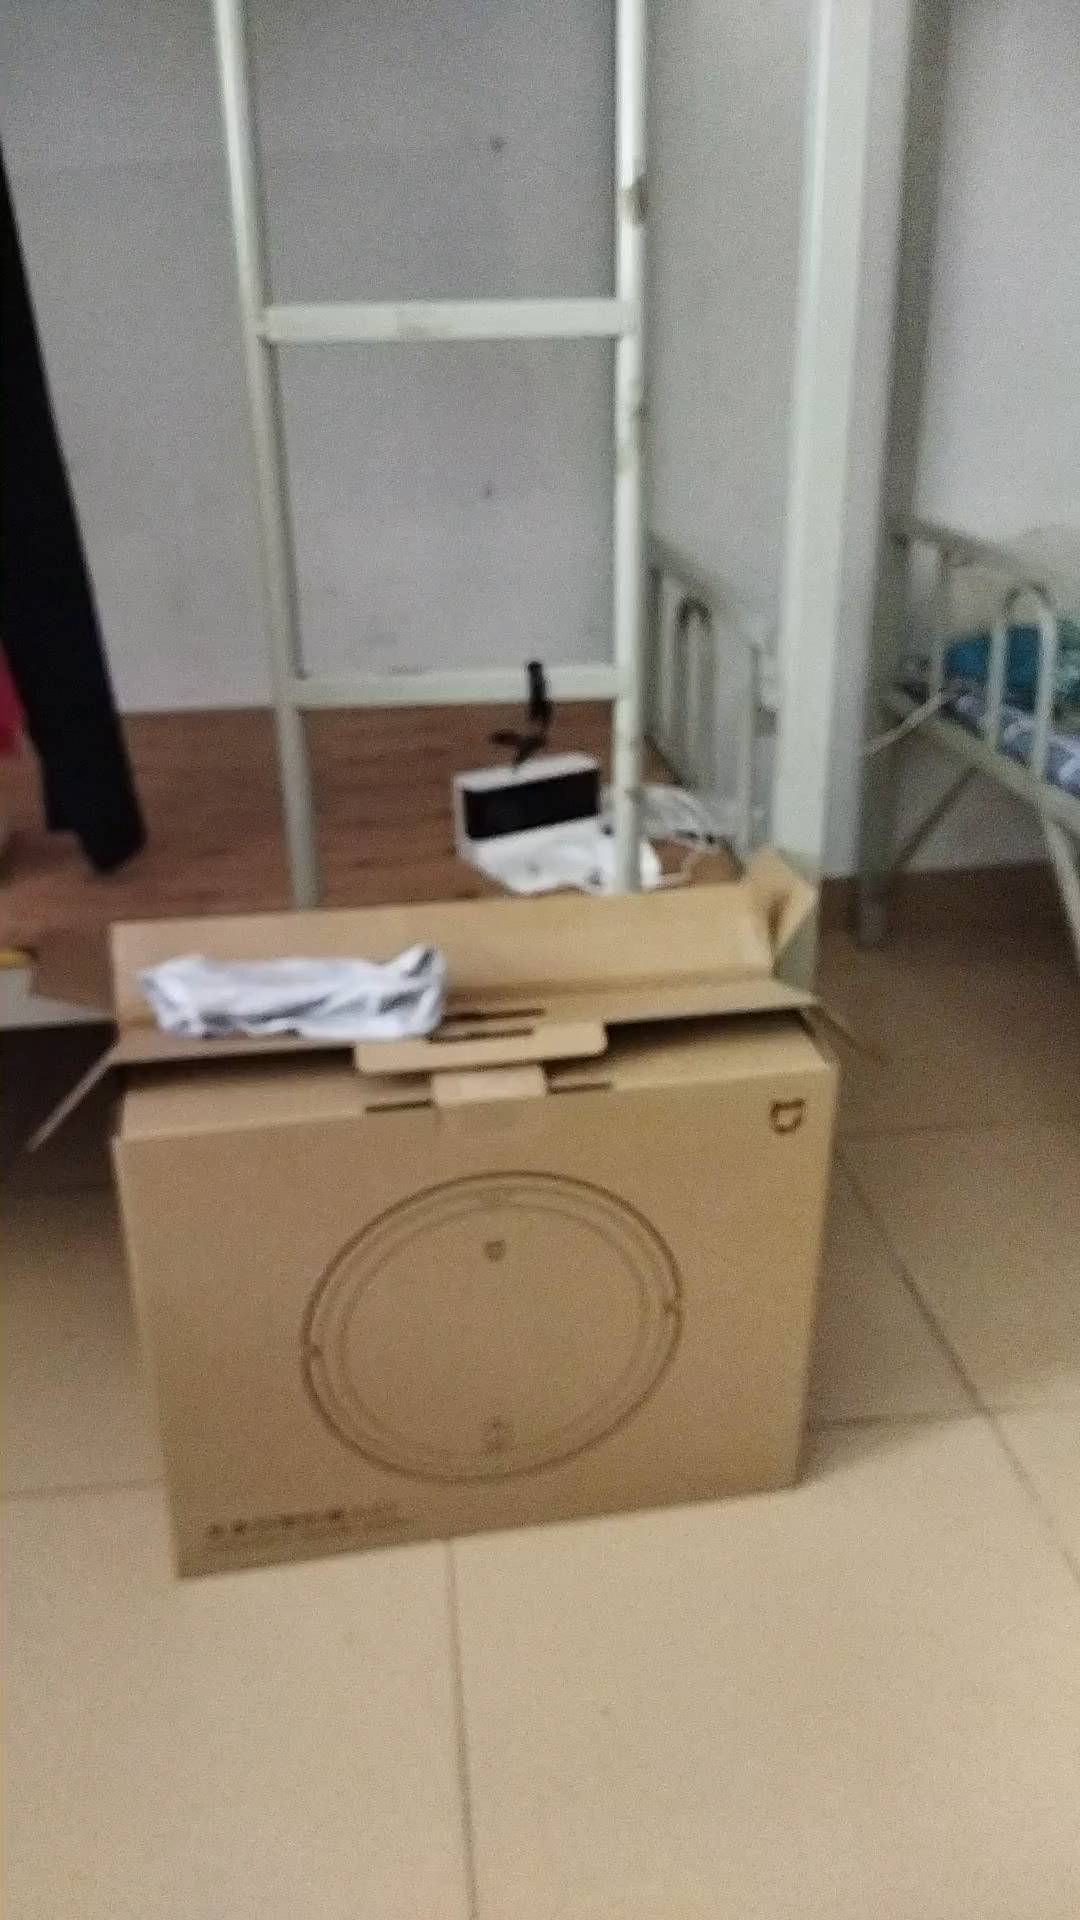recharge seat: (448, 753, 603, 895)
